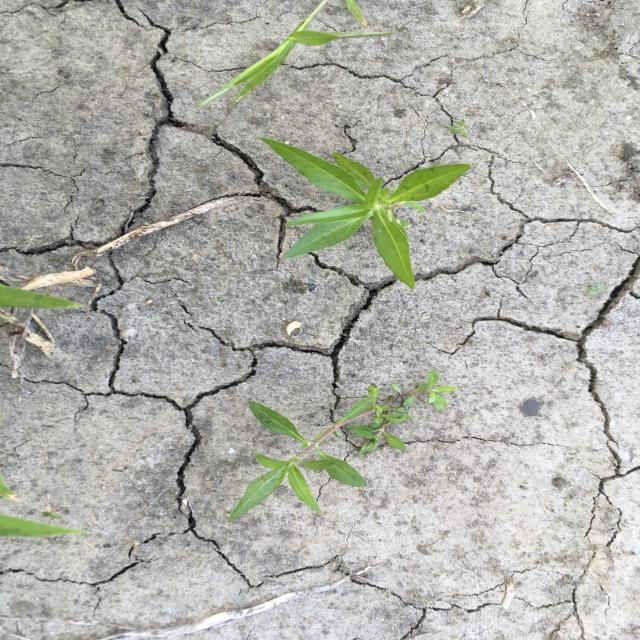Eclipta: (226, 368, 461, 524), (254, 137, 473, 292)
